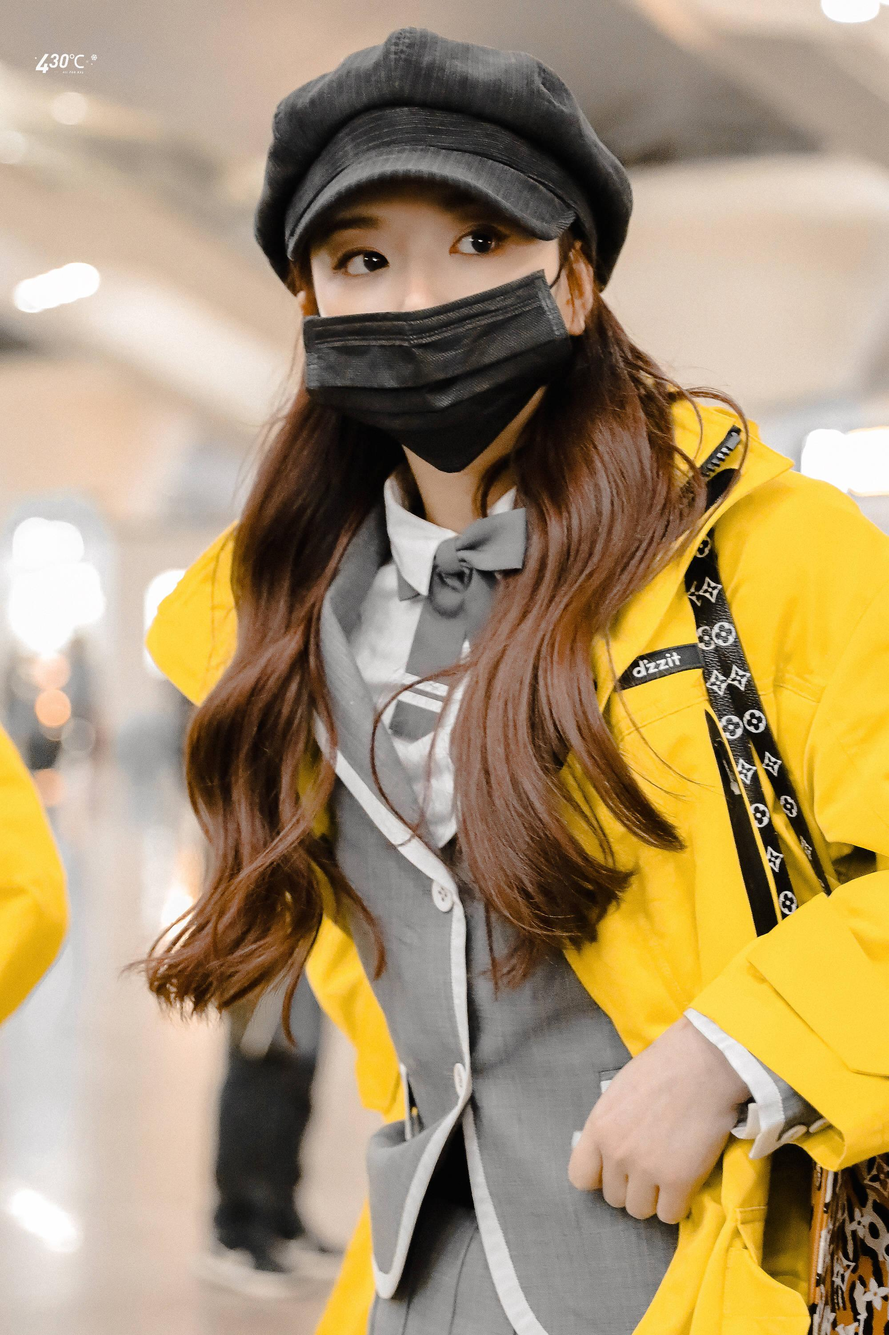WRONG: (305, 207, 565, 474)
